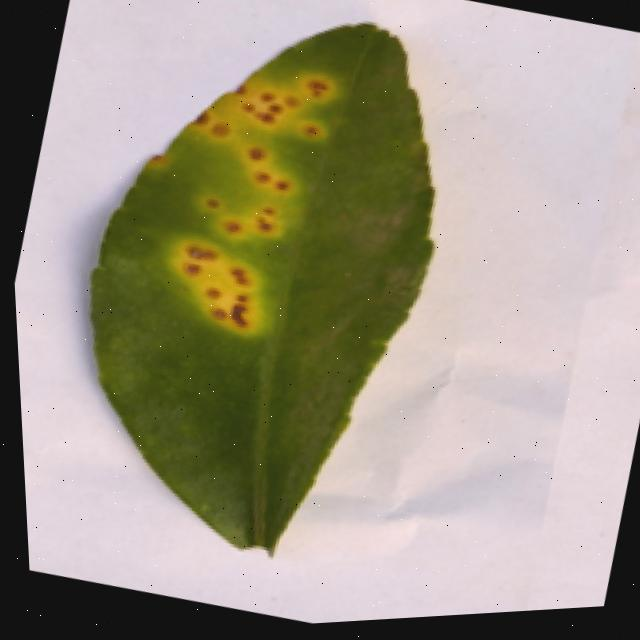canker: (94, 23, 432, 545), (143, 34, 357, 361)
